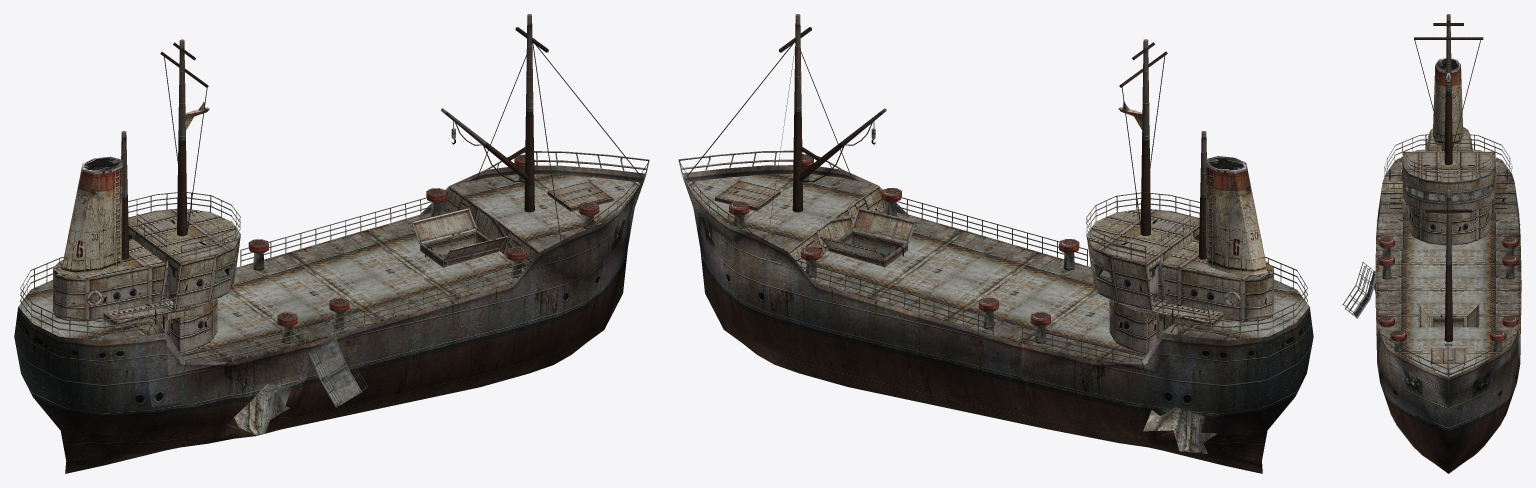
Rendered from ship01p.glb.
3 renders of one model, left to right at view 1: azimuth 30°, elevation 25°; view 2: azimuth 150°, elevation 25°; view 3: azimuth 270°, elevation 25°, orthographic. The views are drawn at different scales.
Parts seen in each view (by area): view 1: _ship01p; view 2: _ship01p; view 3: _ship01p.
Boxes of the visible parts, x1,y1,x2,y2 form: _ship01p: [14, 14, 649, 473]; _ship01p: [678, 14, 1313, 473]; _ship01p: [1342, 14, 1521, 473].
Bounding box in the file's own units: 50.03 × 31.28 × 16.3.
7 materials, 7 textured.
